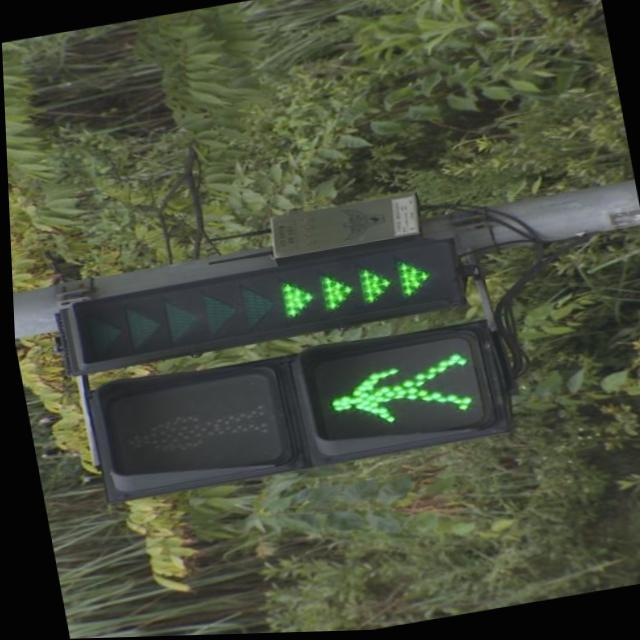green_light: (311, 342, 486, 443)
